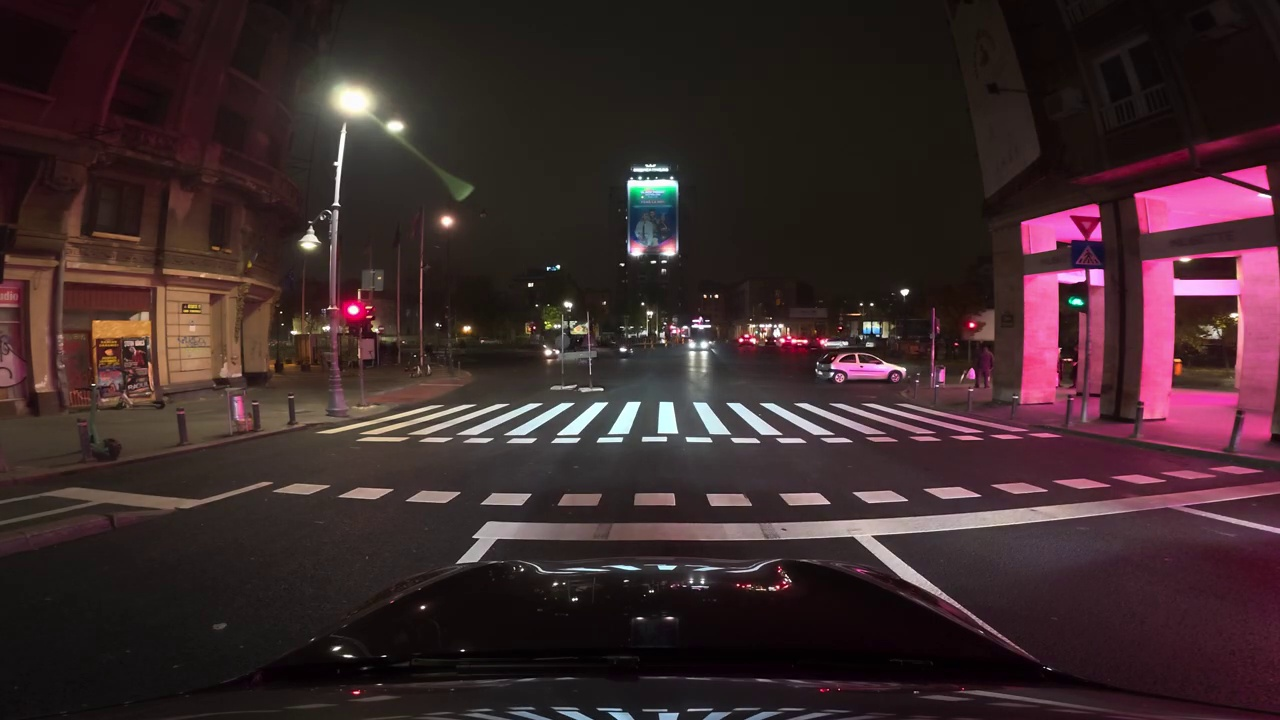acesa: (334, 86, 371, 116), (298, 231, 324, 256), (435, 212, 458, 233), (385, 119, 407, 138)
